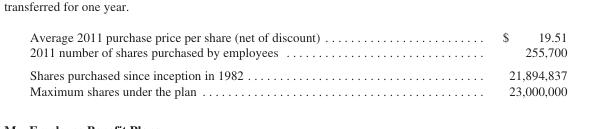table: (28, 29, 566, 97)
table column: (28, 29, 410, 97), (410, 29, 566, 97)
table row: (28, 44, 566, 63), (28, 63, 566, 82), (28, 29, 566, 44), (28, 82, 566, 97)
